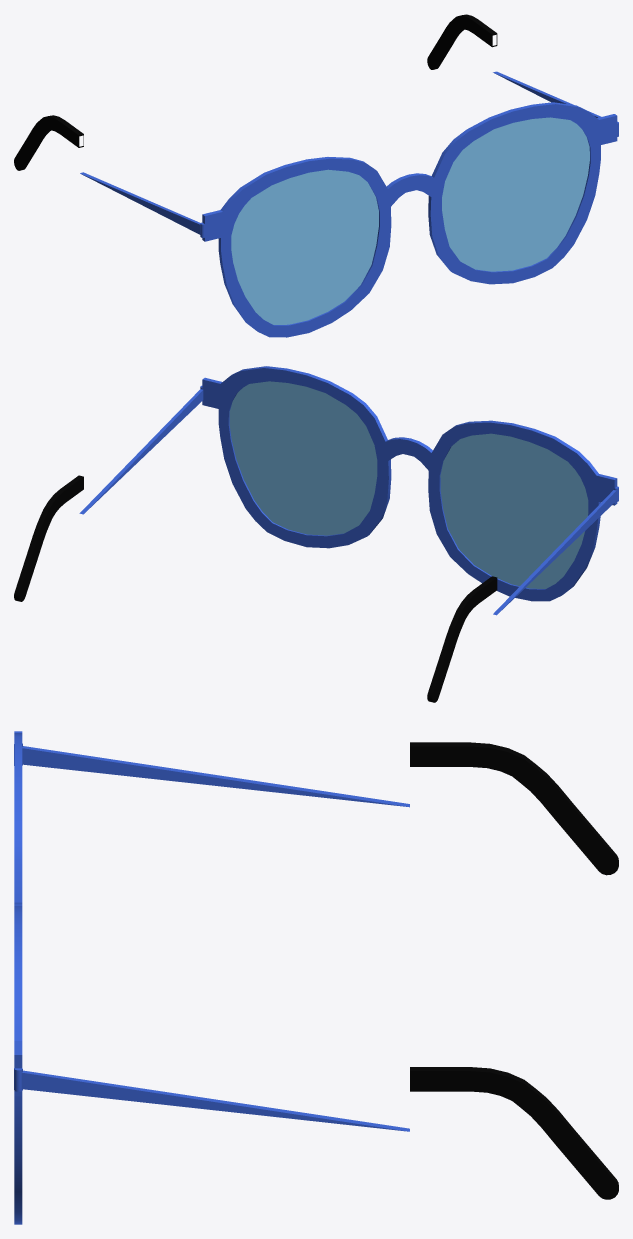
File: cateye.glb
3 views of the same model, one above another, from view 1: azimuth 30°, elevation 25°; view 2: azimuth 150°, elevation 25°; view 3: azimuth 270°, elevation 25° (orthographic). The views are drawn at different scales.
Visible parts, largest first — view 1: glasses5.003; view 2: glasses5.003; view 3: glasses5.003.
Boxes of the visible parts, x1=… form: glasses5.003: x1=14, y1=14, x2=618, y2=337; glasses5.003: x1=14, y1=366, x2=618, y2=702; glasses5.003: x1=14, y1=731, x2=618, y2=1224.
Bounding box in the file's own units: 2.08 × 0.8173 × 1.62.
